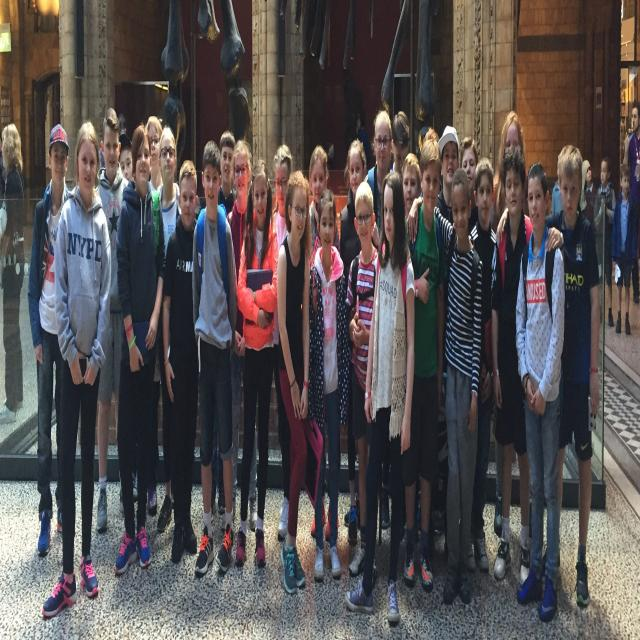body: (9, 498, 604, 640), (42, 118, 112, 620), (490, 144, 568, 594), (404, 164, 482, 609), (345, 170, 415, 627), (542, 144, 600, 604), (515, 160, 566, 621), (115, 125, 166, 576), (192, 136, 238, 579), (26, 121, 70, 559), (235, 155, 279, 567), (403, 139, 443, 591), (161, 158, 203, 565), (275, 164, 314, 596), (307, 188, 348, 582), (93, 108, 130, 534), (345, 180, 380, 590), (467, 154, 498, 575), (308, 143, 340, 542), (226, 137, 258, 531), (338, 138, 369, 527), (210, 128, 238, 514), (156, 122, 182, 532), (270, 145, 292, 536), (0, 122, 28, 426), (144, 115, 164, 514), (362, 108, 394, 262), (491, 108, 529, 234), (611, 160, 637, 336), (593, 154, 616, 330), (622, 100, 640, 306), (436, 124, 460, 225), (459, 136, 480, 236), (401, 152, 422, 228), (388, 110, 411, 175), (580, 159, 597, 232), (118, 132, 134, 186), (550, 177, 564, 216)
